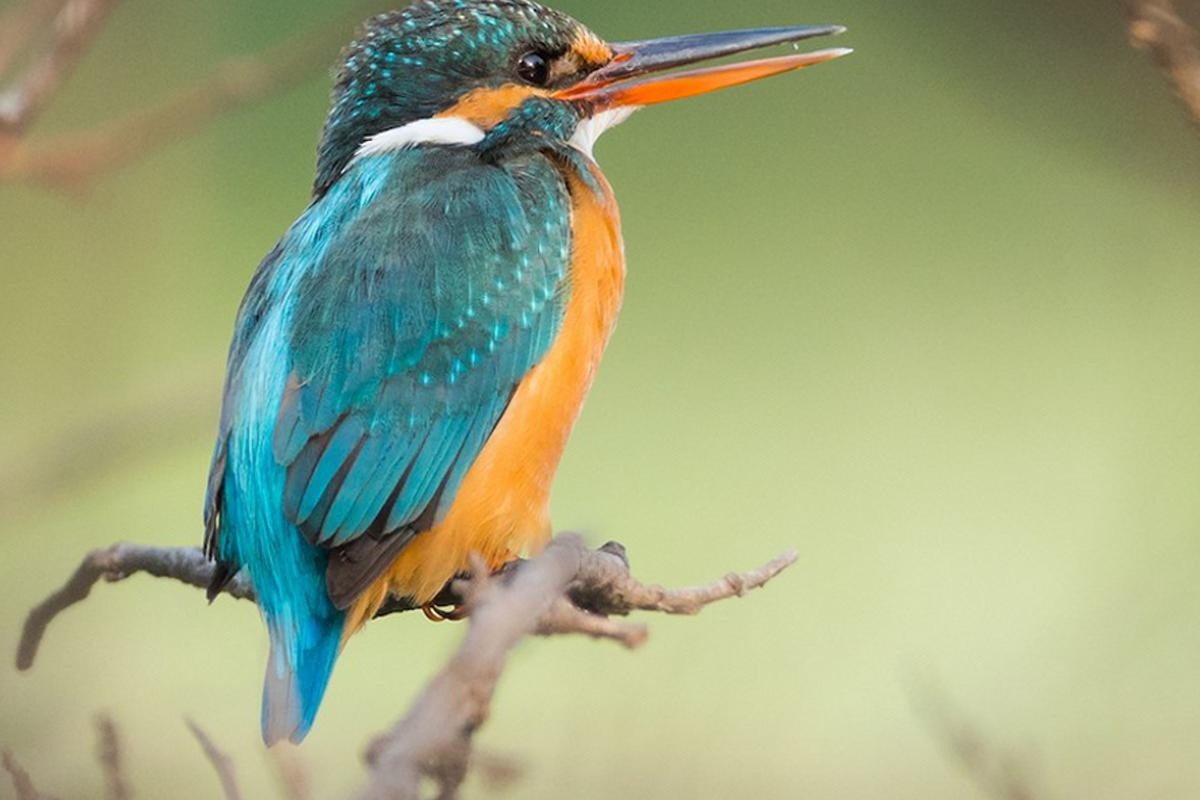kingfisher: (158, 2, 852, 756)
